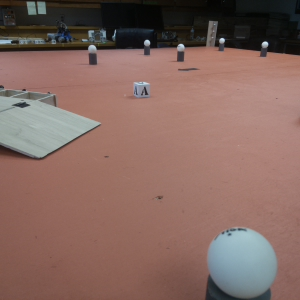blockA: (133, 80, 152, 102)
corner: (203, 17, 217, 50)
obstacle: (197, 227, 275, 300), (84, 43, 101, 66), (257, 39, 271, 60), (173, 43, 187, 63), (142, 40, 155, 58), (219, 37, 226, 53)
side: (1, 87, 57, 99)
slope: (1, 100, 94, 153)
start: (179, 66, 199, 72)
